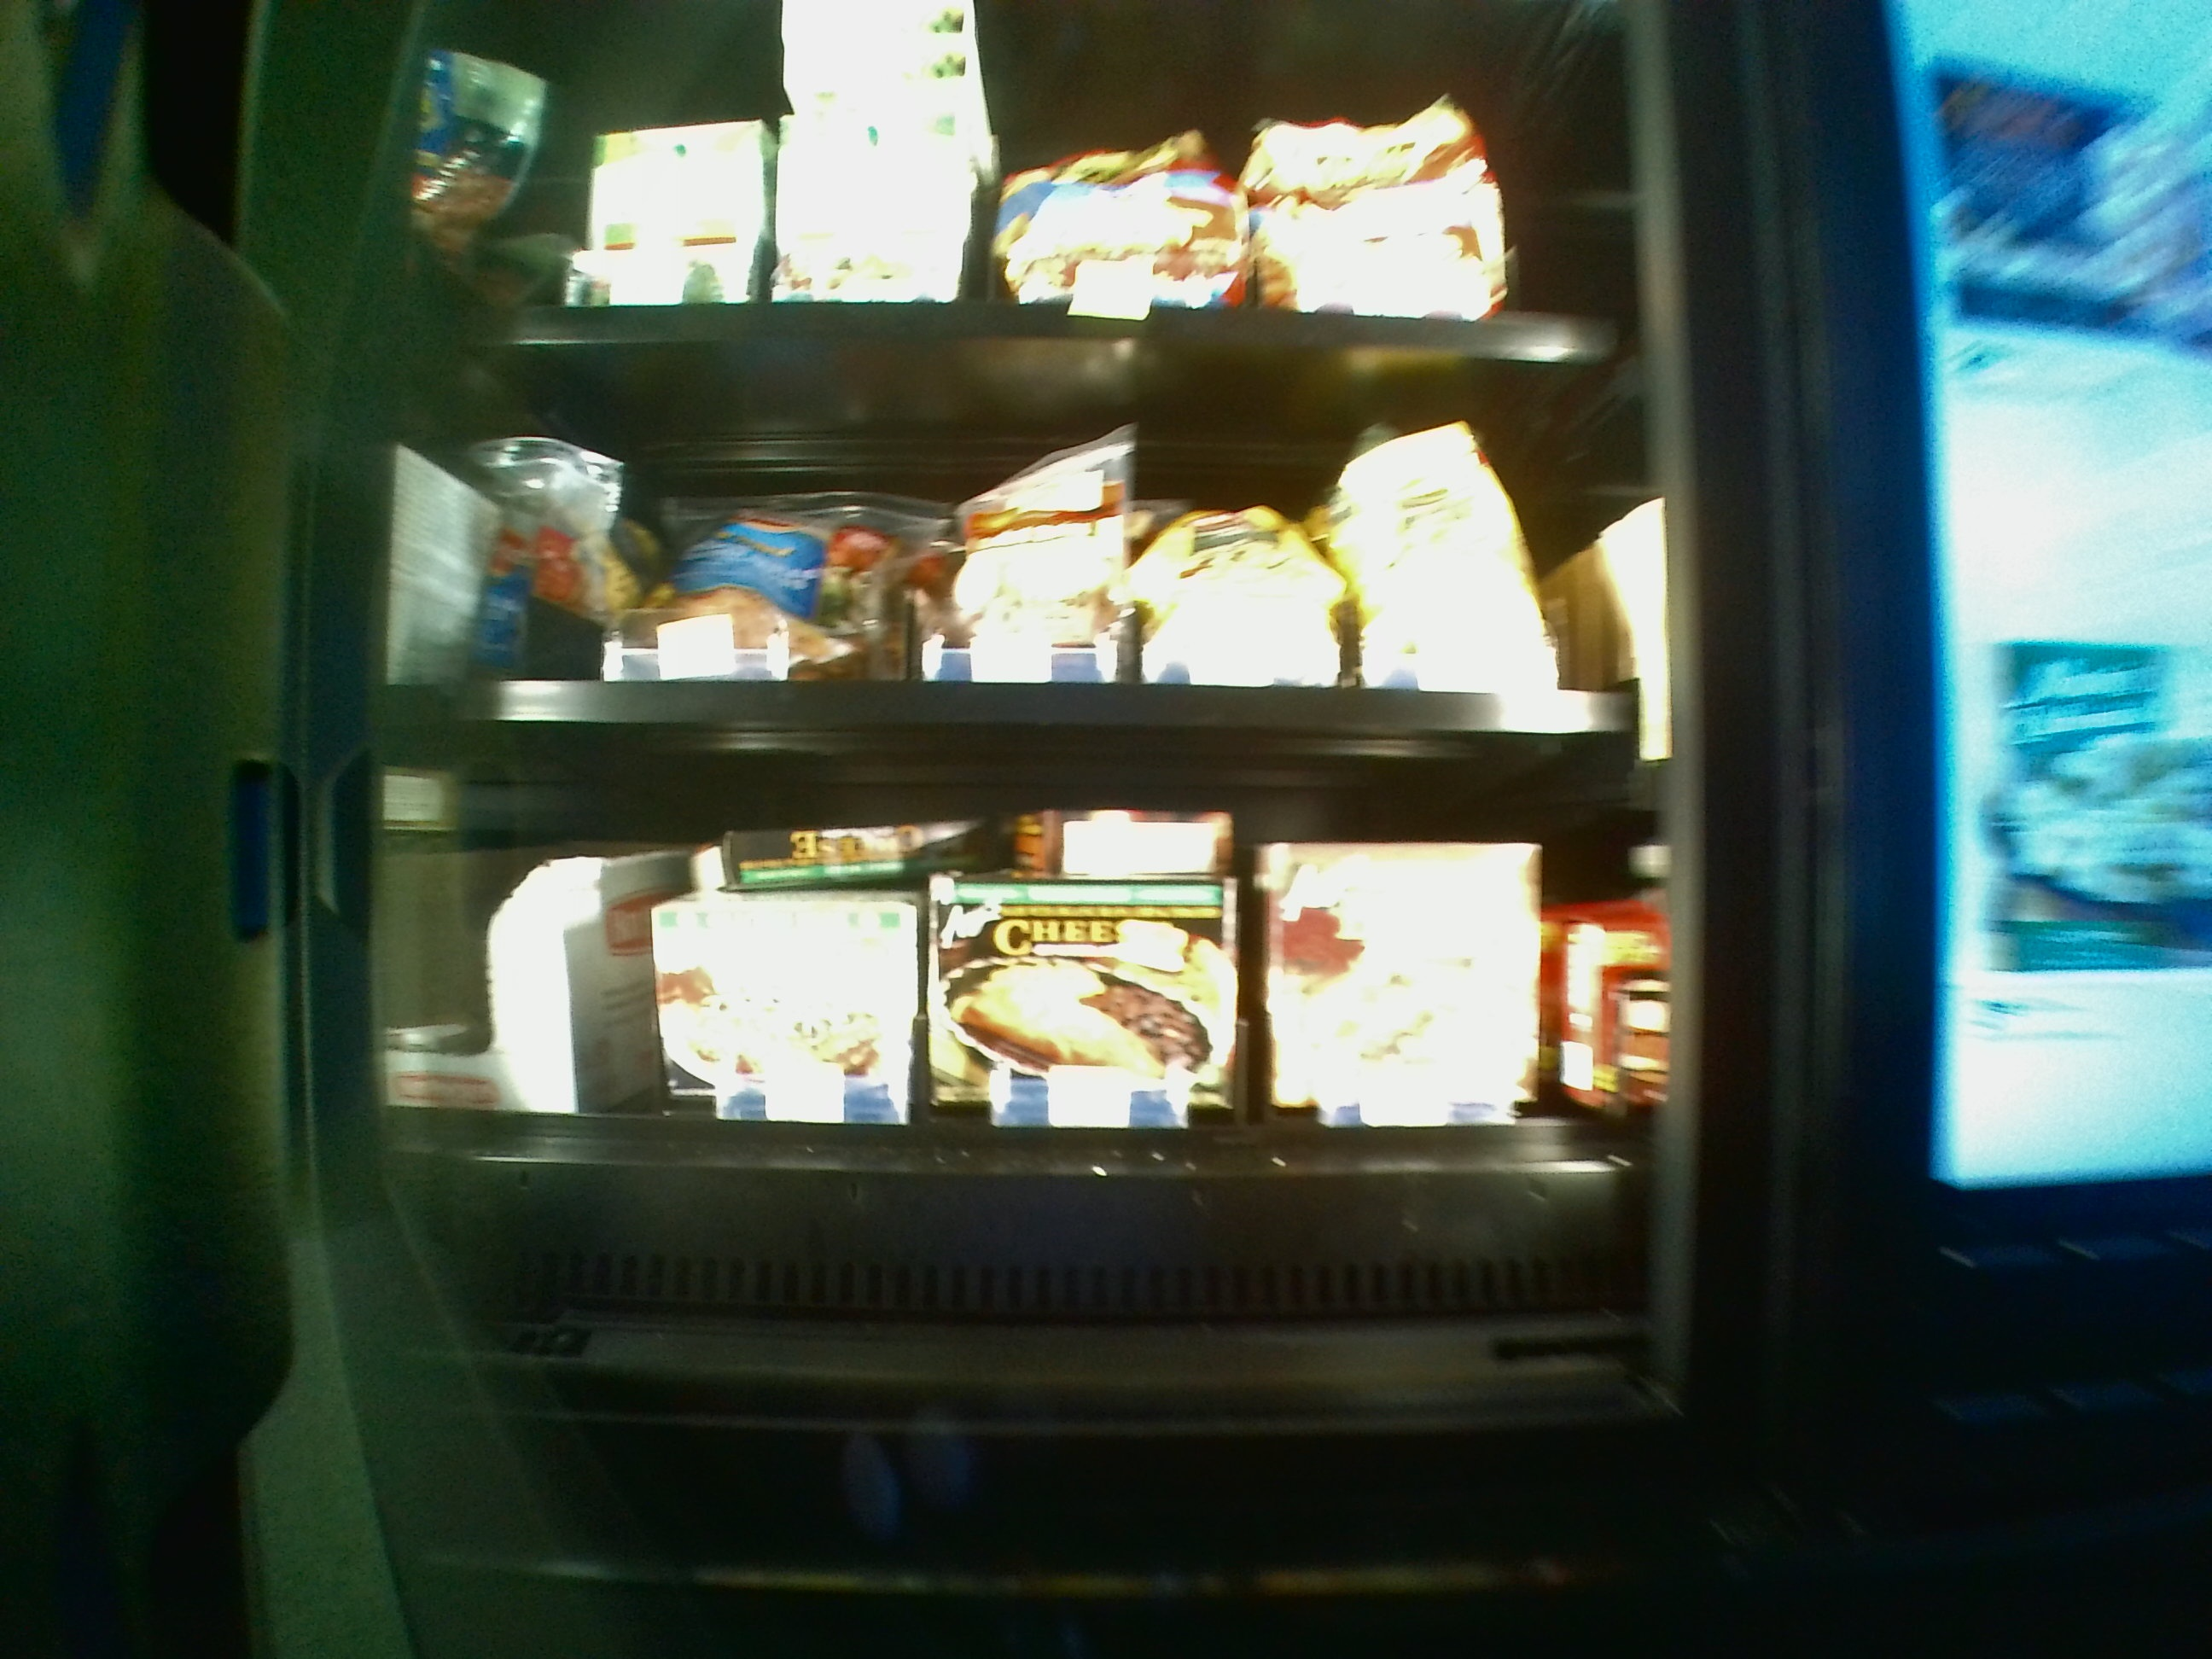shelf: (388, 756, 1656, 1359), (399, 350, 1646, 739)
